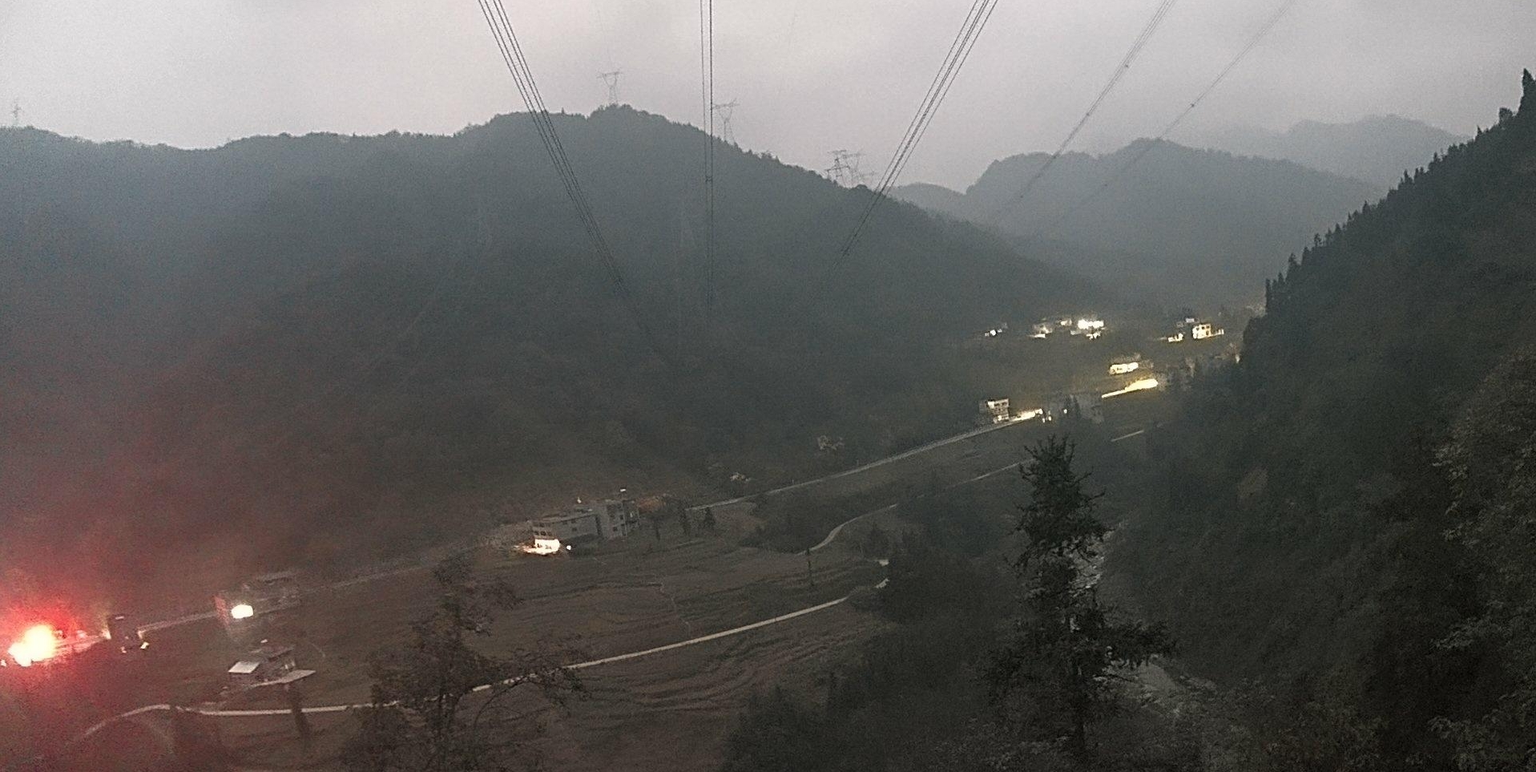山火: (6, 623, 62, 667), (0, 658, 7, 667)
